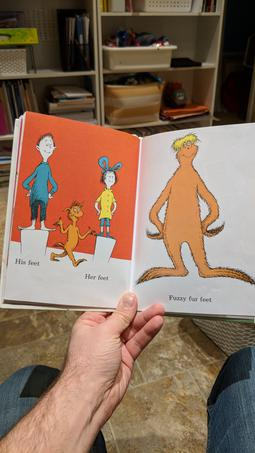text block: (158, 291, 216, 307), (80, 267, 117, 287), (10, 254, 45, 271)
